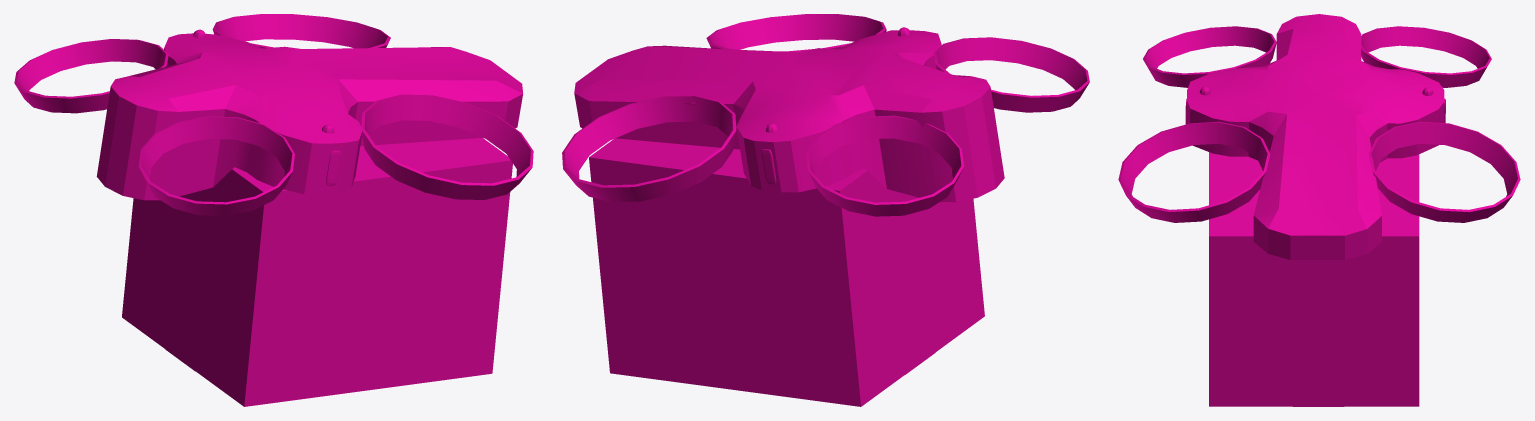
File: DroneBreak.fbx
The picture shows the model from 3 angles, left to right: view 1: azimuth 30°, elevation 25°; view 2: azimuth 150°, elevation 25°; view 3: azimuth 270°, elevation 25°; orthographic projection. The views are drawn at different scales.
Parts seen in each view (by area): view 1: Cube.006, Cube, Cube.005, Cube.002, Cube.003, Cube.004; view 2: Cube.006, Cube, Cube.004, Cube.003, Cube.002, Cube.005; view 3: Cube.006, Cube, Cube.004, Cube.005, Cube.003, Cube.002.
Part boxes in pixels (x1,y1,x2,y2): Cube.006: (122,138,512,406); Cube: (96,29,523,200); Cube.005: (361,94,533,199); Cube.002: (138,116,294,215); Cube.003: (14,39,168,113); Cube.004: (212,14,390,48); Cube.006: (589,138,984,406); Cube: (574,27,1004,202); Cube.004: (562,95,736,202); Cube.003: (806,115,963,216); Cube.002: (933,37,1089,112); Cube.005: (706,14,886,51); Cube.006: (1209,152,1419,406); Cube: (1187,14,1444,259); Cube.004: (1368,121,1520,222); Cube.005: (1118,121,1270,222); Cube.003: (1361,26,1491,87); Cube.002: (1143,26,1276,87).
Bounding box in the file's own units: 306 × 214 × 295.
